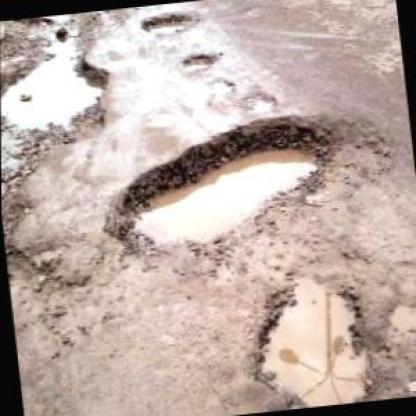pothole: (98, 101, 404, 275), (240, 262, 377, 412), (6, 240, 72, 290), (139, 5, 201, 39), (384, 297, 415, 337), (237, 89, 277, 116), (204, 75, 236, 104), (180, 50, 219, 73)
